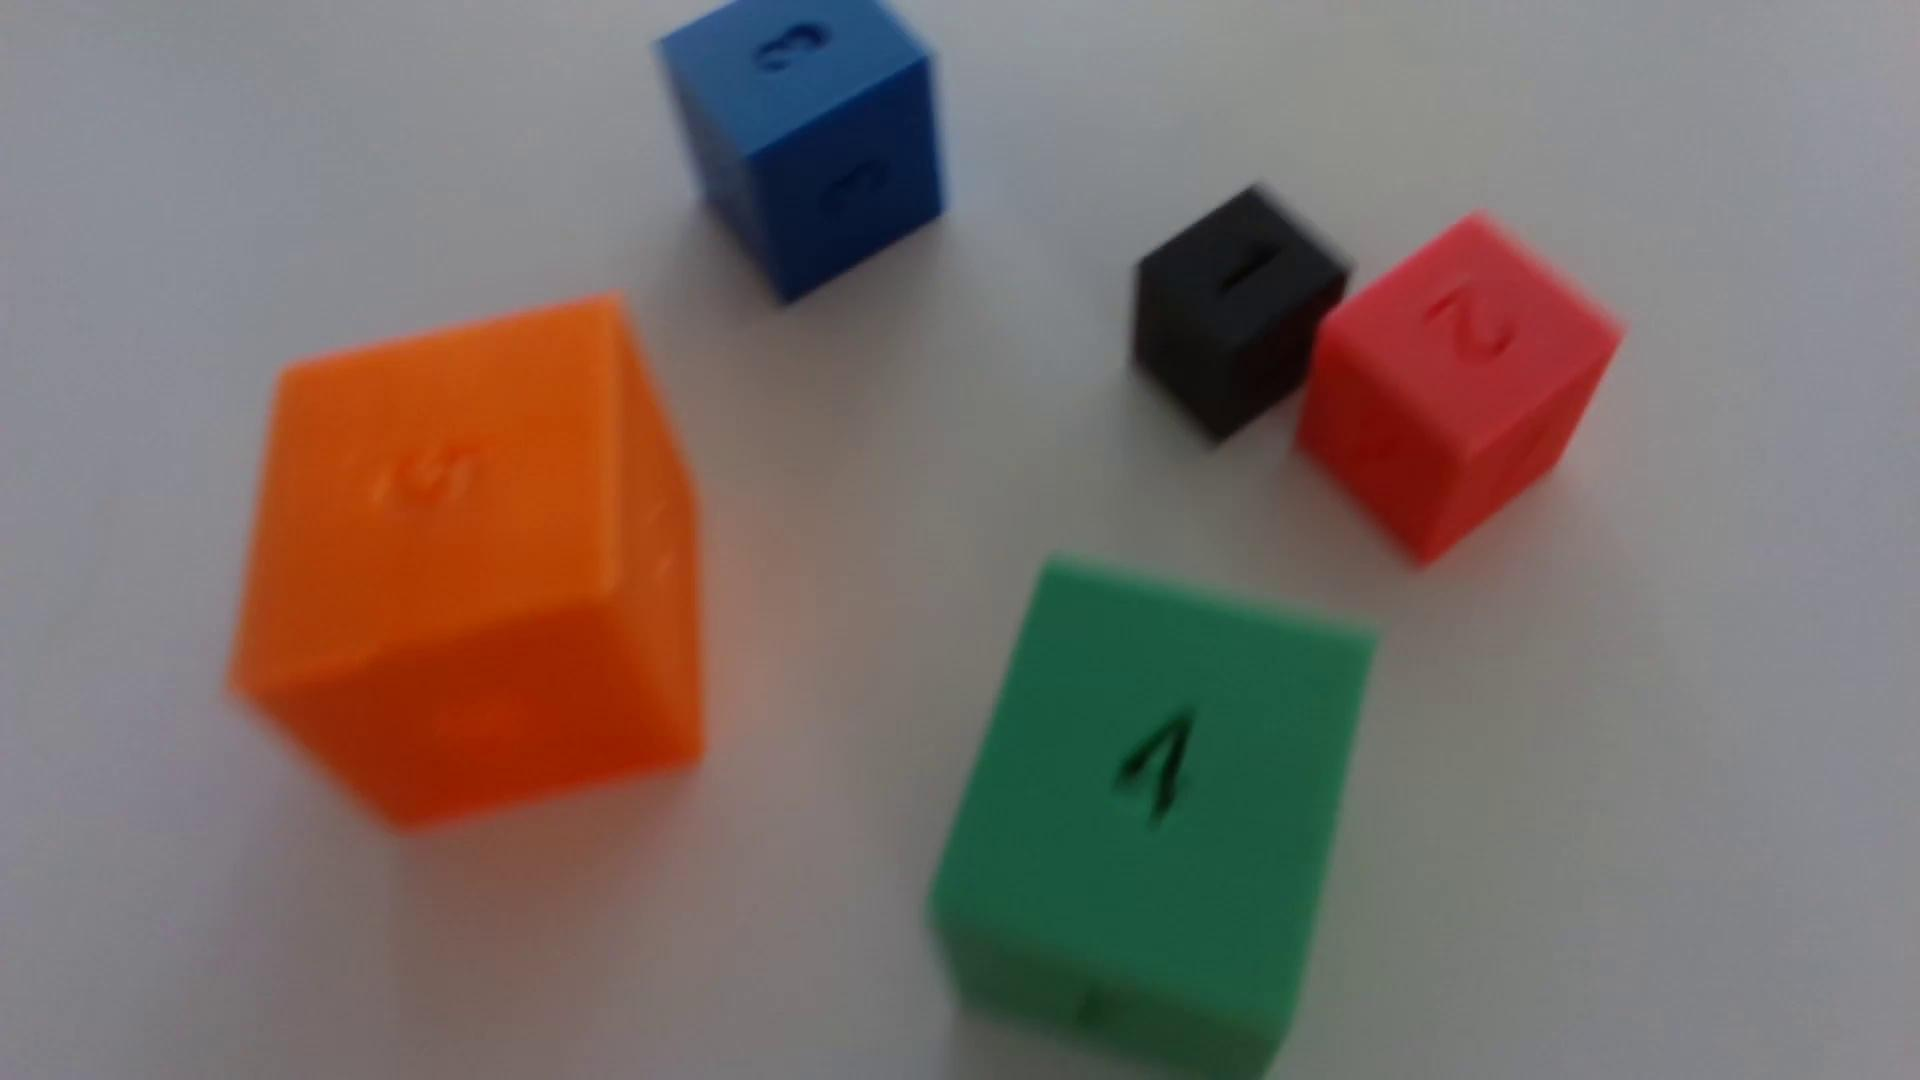black: (1131, 187, 1349, 444)
blue: (657, 0, 943, 303)
green: (931, 562, 1374, 1080)
orange: (231, 299, 704, 829)
red: (1296, 216, 1619, 566)
